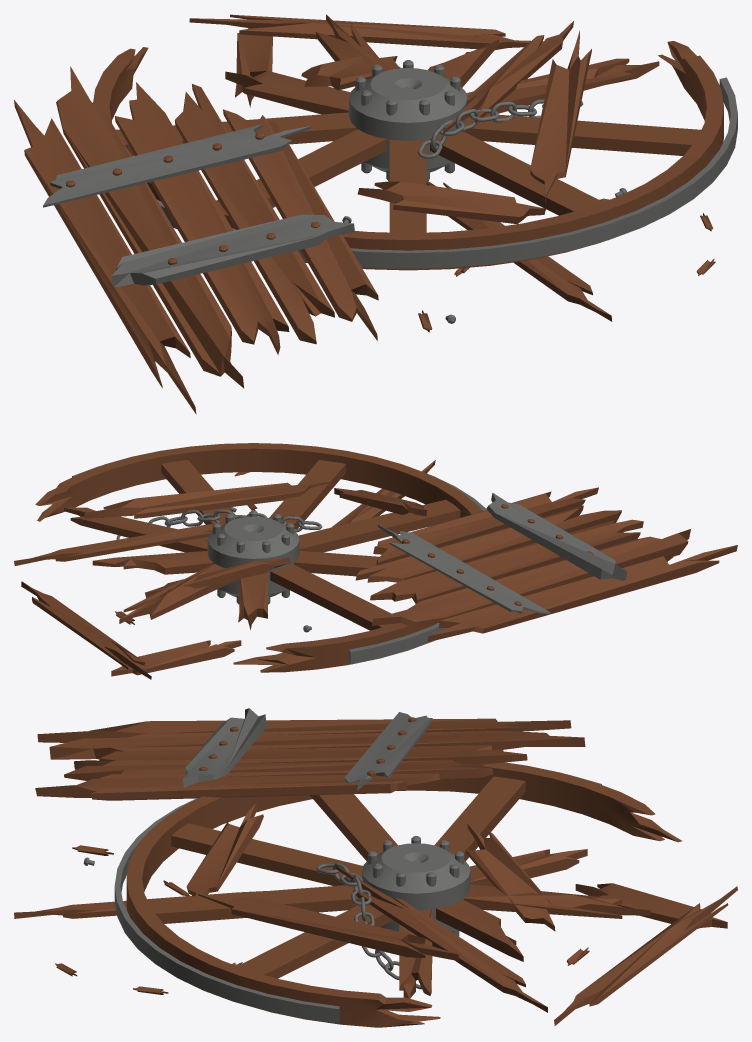
File: xels_xels_misc_objects_debris.fbx
The picture shows the model from 3 angles, top to bottom: view 1: azimuth 30°, elevation 25°; view 2: azimuth 150°, elevation 25°; view 3: azimuth 270°, elevation 25°; orthographic projection. The views are drawn at different scales.
Parts seen in each view (by area): view 1: Mesh, Mesh.004, Mesh.001, Torus; view 2: Mesh, Mesh.004, Mesh.001, Torus; view 3: Mesh, Mesh.004, Mesh.001, Torus.
Part boxes in pixels (left/top/right/bottom): Mesh: left=93, top=14, right=723, bottom=332; Mesh.004: left=14, top=66, right=378, bottom=414; Mesh.001: left=88, top=77, right=737, bottom=268; Torus: left=418, top=99, right=583, bottom=158; Mesh: left=14, top=443, right=482, bottom=679; Mesh.004: left=355, top=487, right=737, bottom=642; Mesh.001: left=72, top=466, right=486, bottom=664; Torus: left=116, top=509, right=322, bottom=539; Mesh: left=14, top=762, right=737, bottom=1027; Mesh.004: left=35, top=708, right=585, bottom=800; Mesh.001: left=114, top=774, right=601, bottom=1023; Torus: left=316, top=863, right=421, bottom=989.
Size of the model in its own units: 419 by 52.18 by 409.
